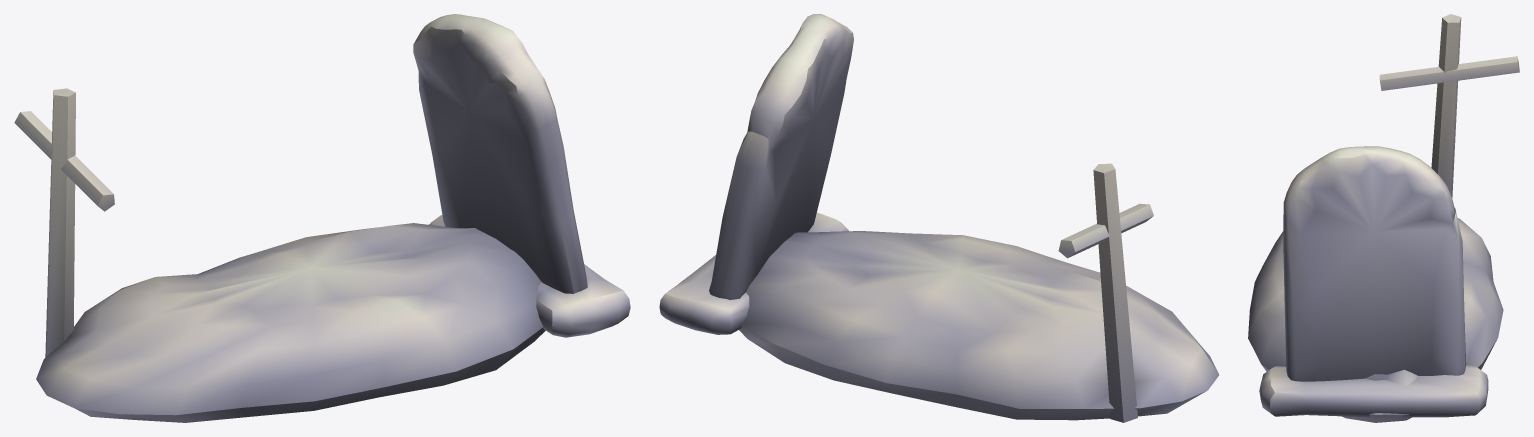
File: grave.glb
The picture shows the model from 3 angles, left to right: view 1: azimuth 30°, elevation 25°; view 2: azimuth 150°, elevation 25°; view 3: azimuth 270°, elevation 25°; orthographic projection. The views are drawn at different scales.
Parts seen in each view (by area): view 1: grave; view 2: grave; view 3: grave.
Boxes of the visible parts, left/top/right/bottom form: grave: left=14, top=14, right=630, bottom=422; grave: left=659, top=14, right=1219, bottom=422; grave: left=1248, top=14, right=1519, bottom=422.
Size of the model in its own units: 1.96 by 1.1 by 1.06.
